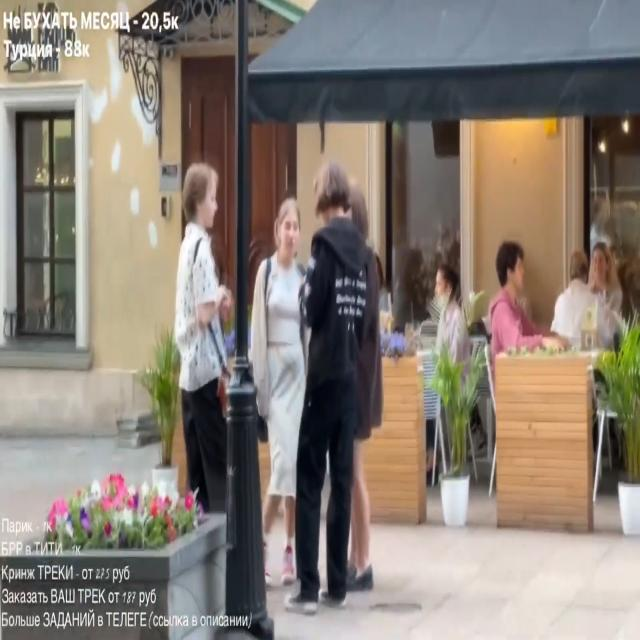Person: (292, 171, 385, 612), (247, 178, 315, 609), (176, 155, 235, 545), (489, 240, 569, 354), (552, 246, 624, 348)
